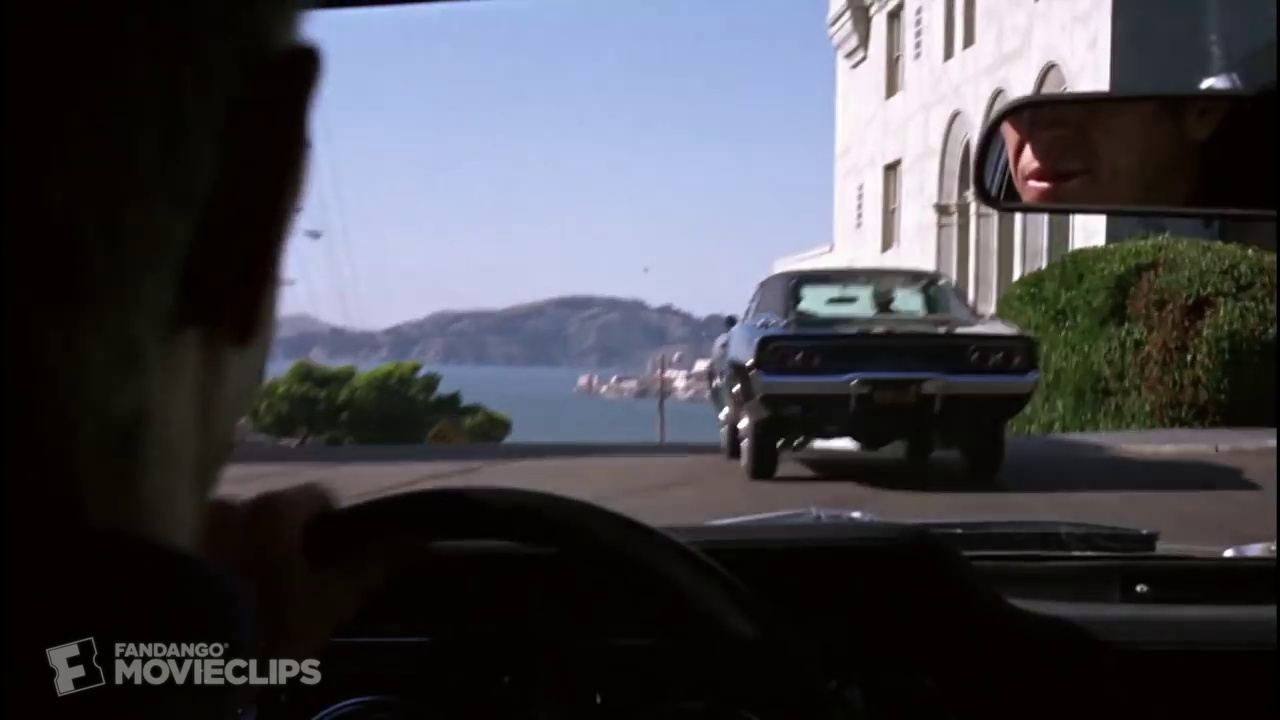car: (278, 474, 1280, 718), (683, 252, 1051, 489)
person: (1, 1, 366, 550), (989, 89, 1251, 210)
